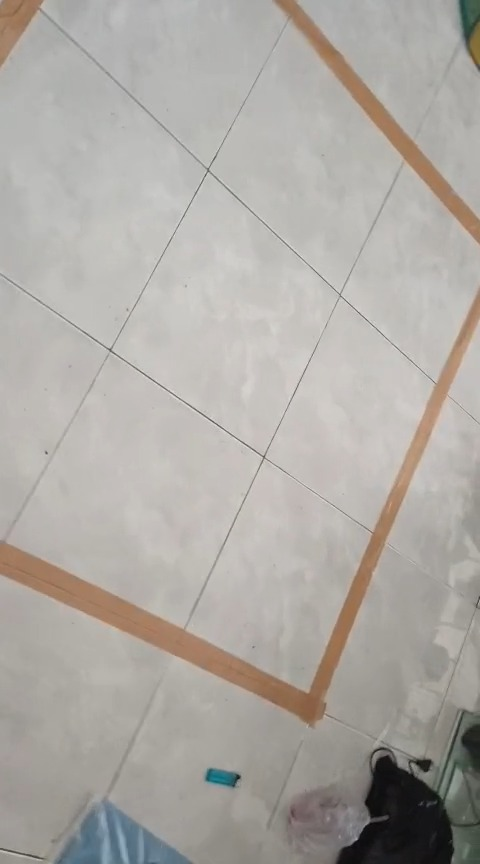floor marking: (0, 287, 479, 725), (274, 0, 479, 244), (0, 0, 42, 68)
